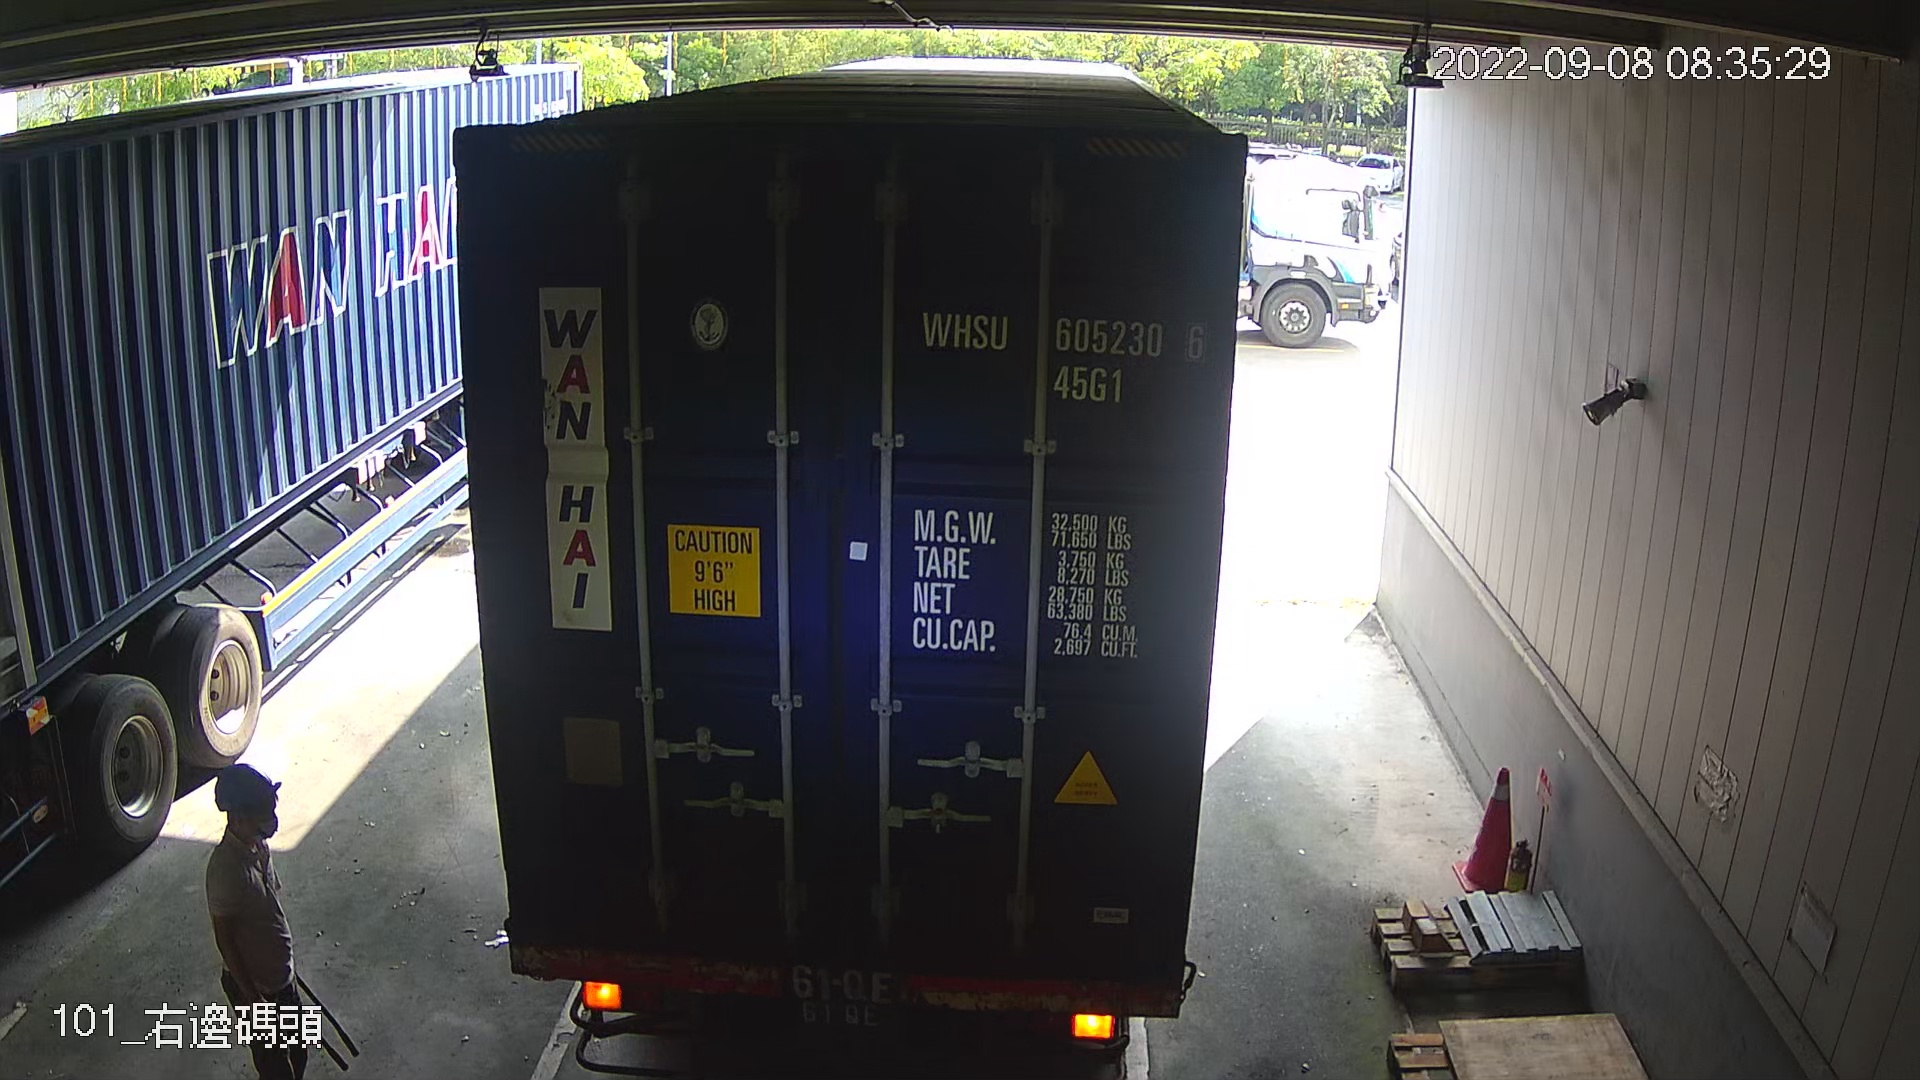container: (910, 294, 1215, 413)
